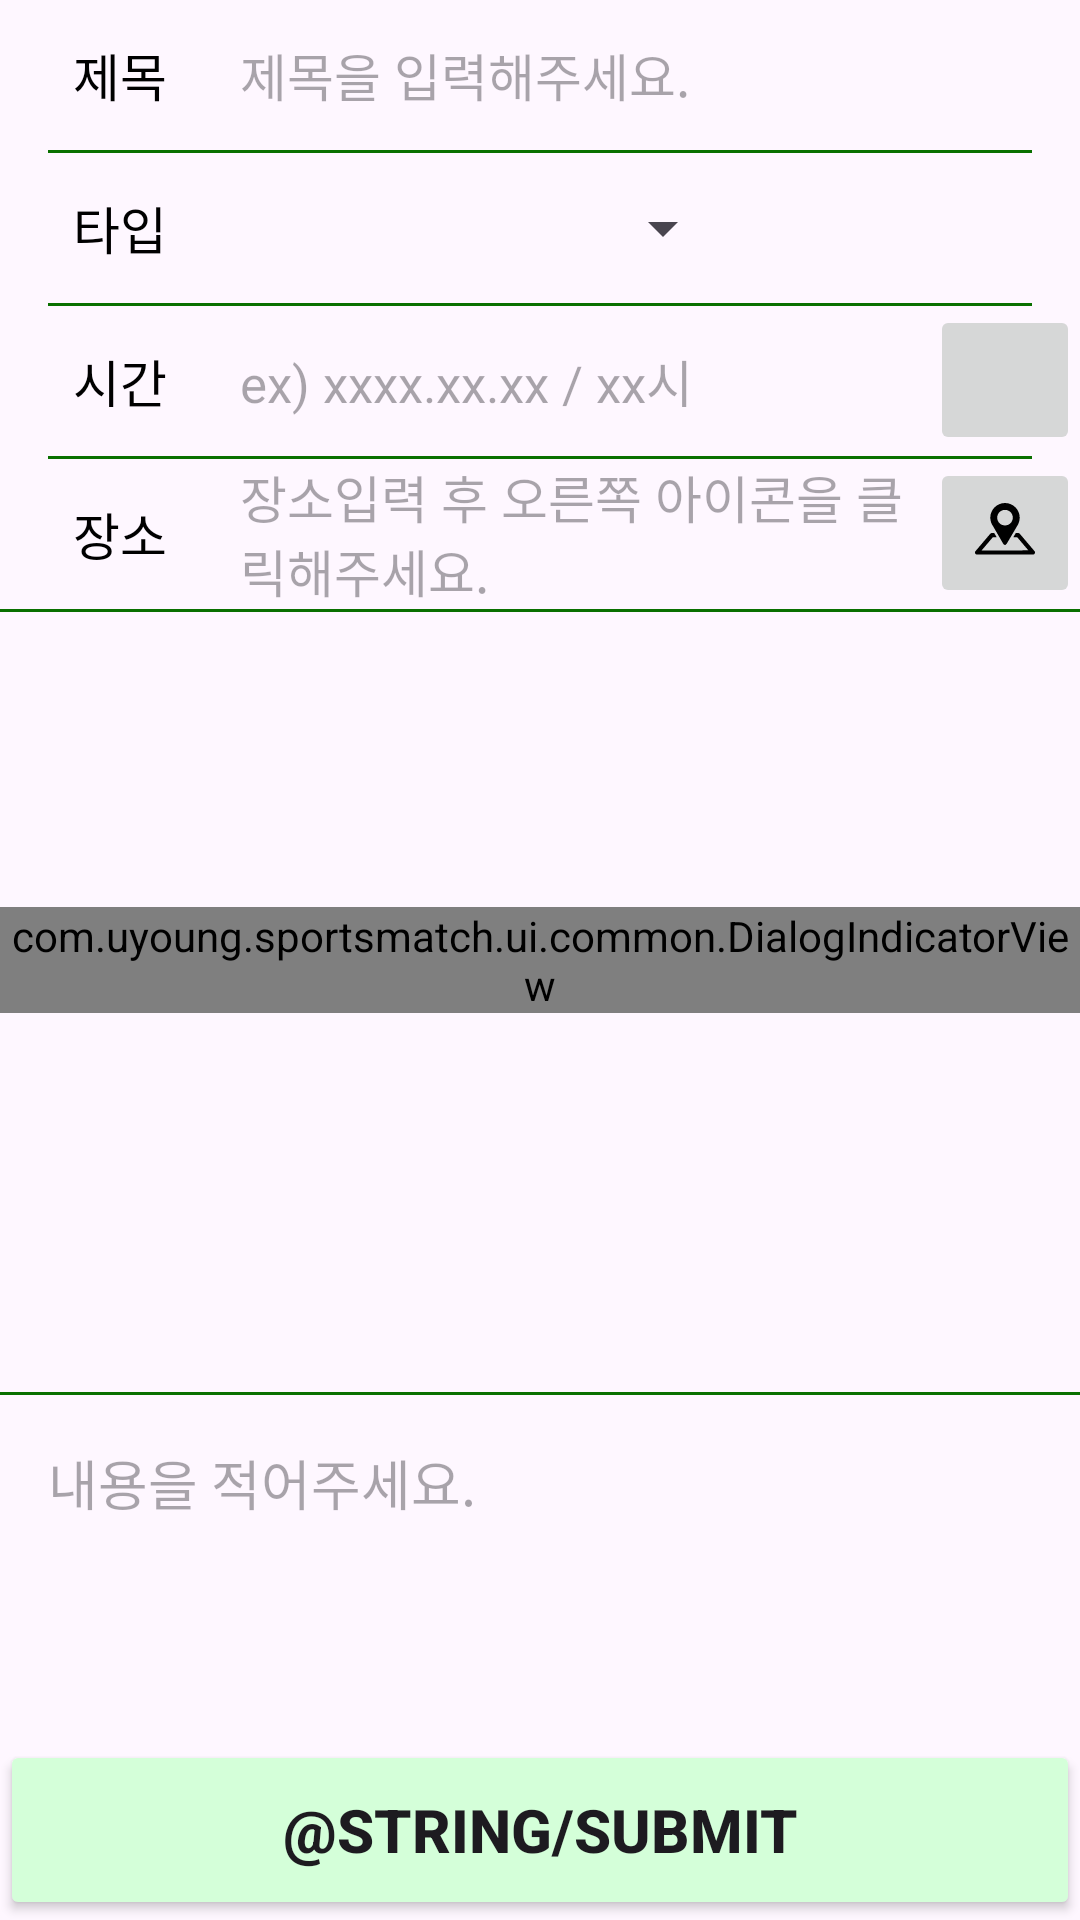

Named icons in this screenshot (1080 × 1920) and their bounding boxes, (x1=x1, y1=y1, x2=x2, y2=y2):
location: (x1=942, y1=476, x2=1068, y2=590)
